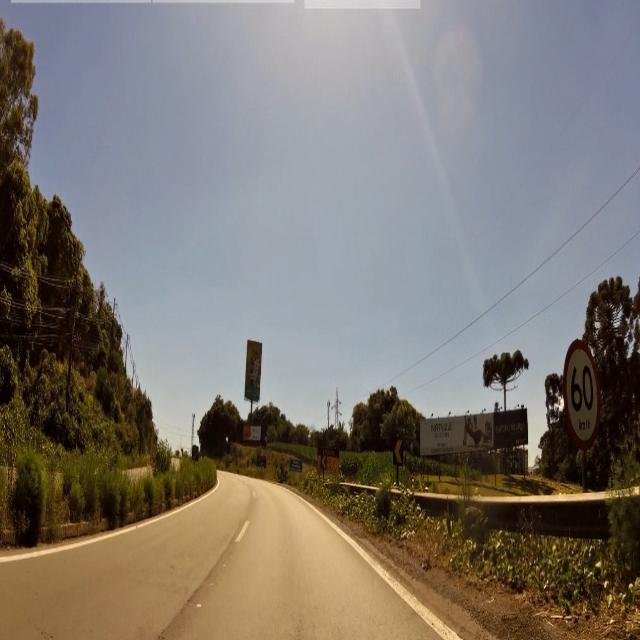R-19: (563, 335, 600, 454)
